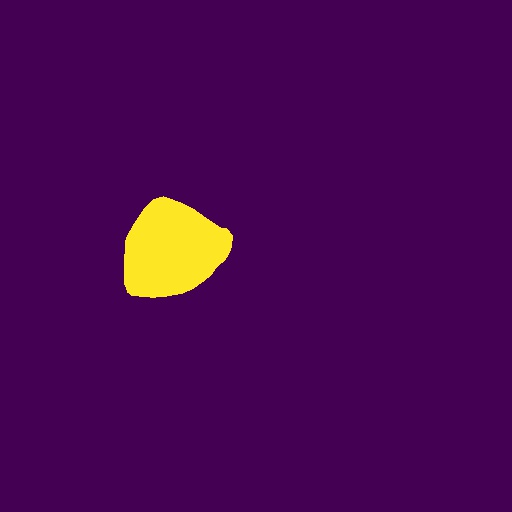Gliomia_tumour: (124, 196, 233, 298)
